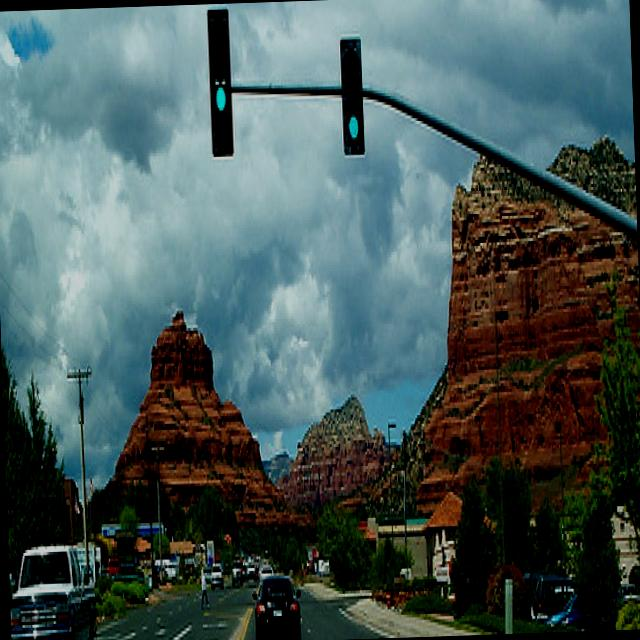Vehicle: (7, 541, 97, 640), (250, 571, 303, 640), (530, 572, 582, 628), (528, 574, 578, 628), (230, 551, 242, 588), (623, 580, 640, 604), (210, 563, 224, 590), (230, 558, 242, 584), (258, 563, 274, 581), (246, 566, 258, 588), (106, 558, 120, 575)
